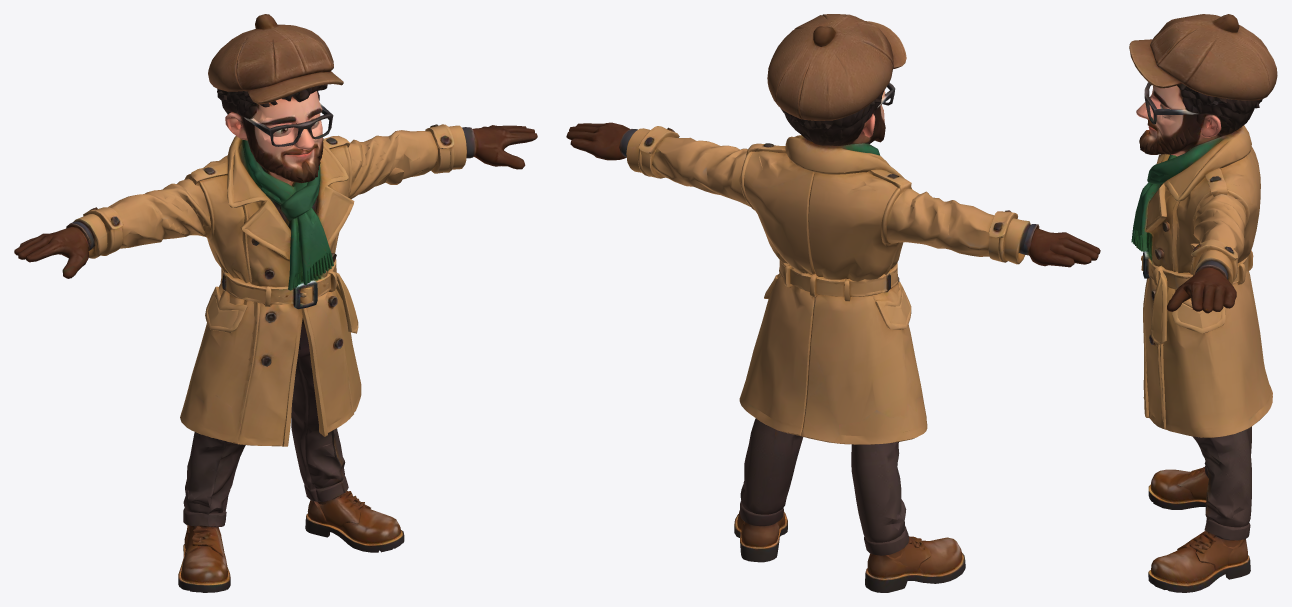
File: charDetective.glb
3 views of the same model, side by side, from view 1: azimuth 30°, elevation 25°; view 2: azimuth 150°, elevation 25°; view 3: azimuth 270°, elevation 25° (orthographic). The views are drawn at different scales.
Parts seen in each view (by area): view 1: model; view 2: model; view 3: model.
Boxes of the visible parts, box(x1,y1,x2,y2) form: model: box(14, 14, 537, 592); model: box(566, 14, 1100, 592); model: box(1129, 14, 1277, 592).
Size of the model in its own units: 1.9 by 1.87 by 0.475.
1 material, 1 textured.
